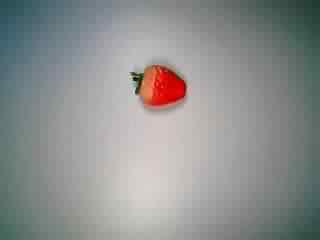strawberry: (125, 58, 193, 122)
